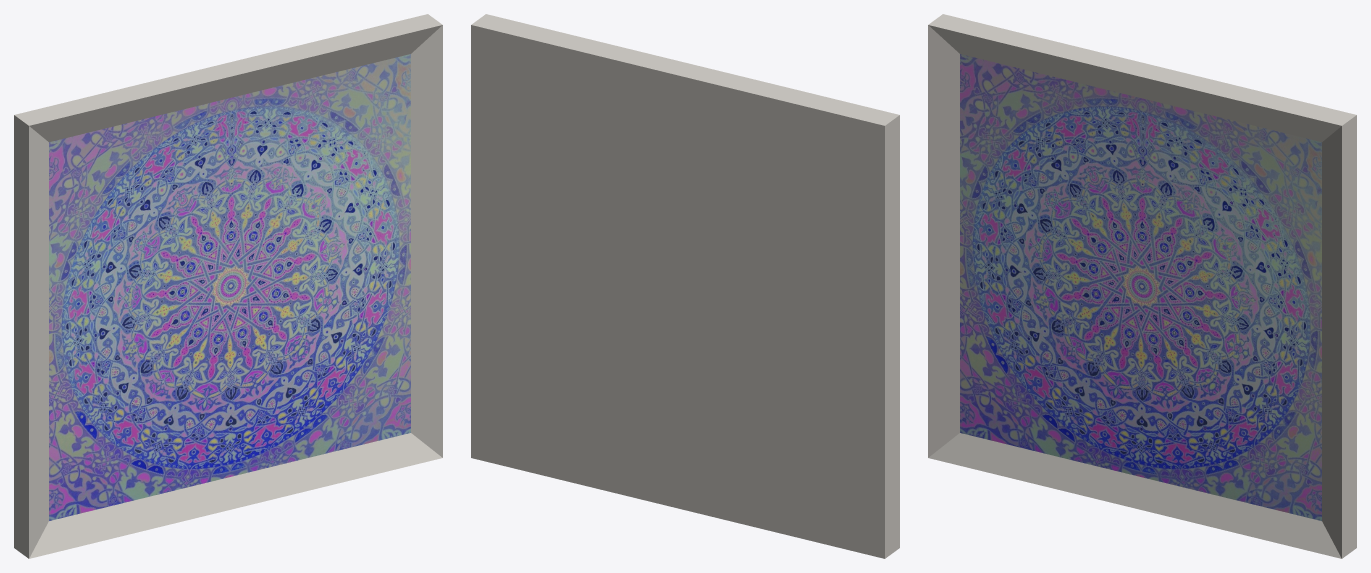
File: tridecagon-moon-star-tridecagon-supernova-violet-a2-white-v2.glb
3 views of the same model, side by side, from view 1: azimuth 30°, elevation 25°; view 2: azimuth 150°, elevation 25°; view 3: azimuth 330°, elevation 25° (orthographic).
Visible parts, largest first — view 1: FramedPrint; view 2: FramedPrint; view 3: FramedPrint.
Boxes of the visible parts, x1=… form: FramedPrint: x1=14, y1=14, x2=442, y2=558; FramedPrint: x1=471, y1=14, x2=899, y2=558; FramedPrint: x1=928, y1=14, x2=1356, y2=558.
Bounding box in the file's own units: 0.48 × 0.48 × 0.03.
2 materials, 1 textured.
